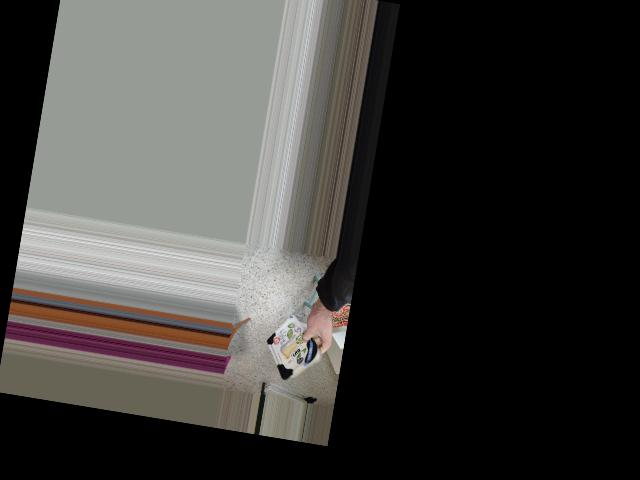cheese: (255, 320, 337, 385)
